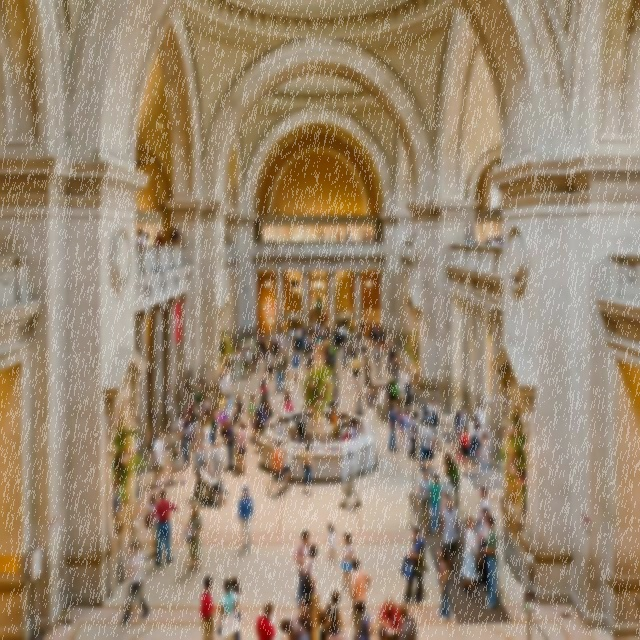pessoa: (115, 539, 151, 628), (398, 525, 429, 605), (148, 487, 178, 567), (348, 554, 372, 639), (480, 514, 500, 610), (459, 513, 482, 596), (438, 496, 462, 574), (134, 492, 160, 558), (293, 528, 313, 612), (198, 573, 223, 639), (216, 576, 242, 639), (182, 500, 204, 574), (264, 437, 288, 498), (338, 450, 362, 510), (236, 484, 256, 554), (130, 224, 186, 249), (167, 426, 190, 486), (376, 594, 404, 639), (300, 543, 318, 609), (202, 457, 228, 502), (477, 504, 490, 592), (442, 452, 461, 512), (415, 467, 432, 534), (436, 546, 450, 622), (326, 589, 347, 638), (352, 598, 376, 639), (314, 611, 348, 639), (394, 600, 418, 639), (254, 600, 278, 639), (192, 440, 208, 498), (151, 430, 167, 488), (340, 531, 354, 593), (428, 472, 442, 532), (230, 575, 243, 639), (279, 434, 293, 492), (296, 595, 314, 639), (300, 440, 314, 494), (233, 420, 248, 470), (278, 616, 310, 639), (458, 426, 472, 478), (422, 418, 435, 472), (407, 408, 420, 462), (225, 418, 238, 472), (468, 422, 483, 467), (386, 402, 399, 453), (235, 422, 248, 472), (180, 418, 192, 472), (253, 399, 266, 447), (247, 393, 260, 441), (185, 394, 212, 416), (326, 521, 340, 563), (364, 384, 378, 426), (464, 233, 503, 248), (452, 408, 464, 456), (402, 407, 414, 454), (476, 486, 490, 526), (478, 429, 491, 472), (430, 408, 442, 452), (190, 399, 202, 443), (341, 410, 358, 440), (418, 418, 428, 468), (386, 375, 399, 413), (220, 398, 230, 446), (204, 408, 216, 448), (371, 345, 384, 380), (328, 404, 340, 441), (332, 322, 359, 338), (274, 414, 288, 444), (273, 355, 284, 393), (210, 403, 219, 447), (278, 385, 292, 413), (376, 383, 386, 422), (233, 393, 243, 432), (455, 408, 464, 451), (352, 388, 365, 416), (350, 352, 360, 388), (386, 337, 396, 372), (398, 410, 407, 448), (403, 367, 412, 405), (362, 354, 372, 388), (290, 348, 300, 382), (242, 346, 252, 380), (390, 378, 400, 412), (368, 318, 382, 342), (286, 416, 298, 443), (340, 338, 350, 369), (270, 329, 280, 359), (422, 398, 437, 418), (223, 369, 232, 402), (265, 348, 274, 380), (258, 406, 270, 430), (193, 376, 202, 408), (260, 376, 270, 404), (428, 402, 442, 422), (390, 352, 399, 383), (350, 335, 359, 366), (280, 352, 290, 379), (258, 330, 267, 360), (262, 398, 274, 420), (466, 414, 480, 432), (385, 327, 394, 355), (329, 339, 338, 367), (295, 324, 304, 352), (268, 324, 280, 345), (360, 332, 368, 360), (375, 624, 389, 639), (421, 408, 434, 424), (218, 373, 226, 399), (315, 229, 332, 241), (318, 323, 326, 347), (278, 328, 286, 351), (292, 432, 306, 445), (296, 410, 308, 424), (402, 364, 416, 376), (366, 230, 374, 251), (318, 627, 331, 639), (303, 332, 311, 350), (443, 491, 451, 508), (312, 318, 320, 335), (379, 328, 387, 344), (317, 432, 327, 443), (298, 632, 312, 639), (225, 366, 232, 379), (372, 230, 380, 241), (335, 229, 342, 241), (362, 229, 368, 242), (361, 319, 366, 332), (347, 230, 352, 241), (255, 330, 260, 340), (343, 235, 348, 242)
